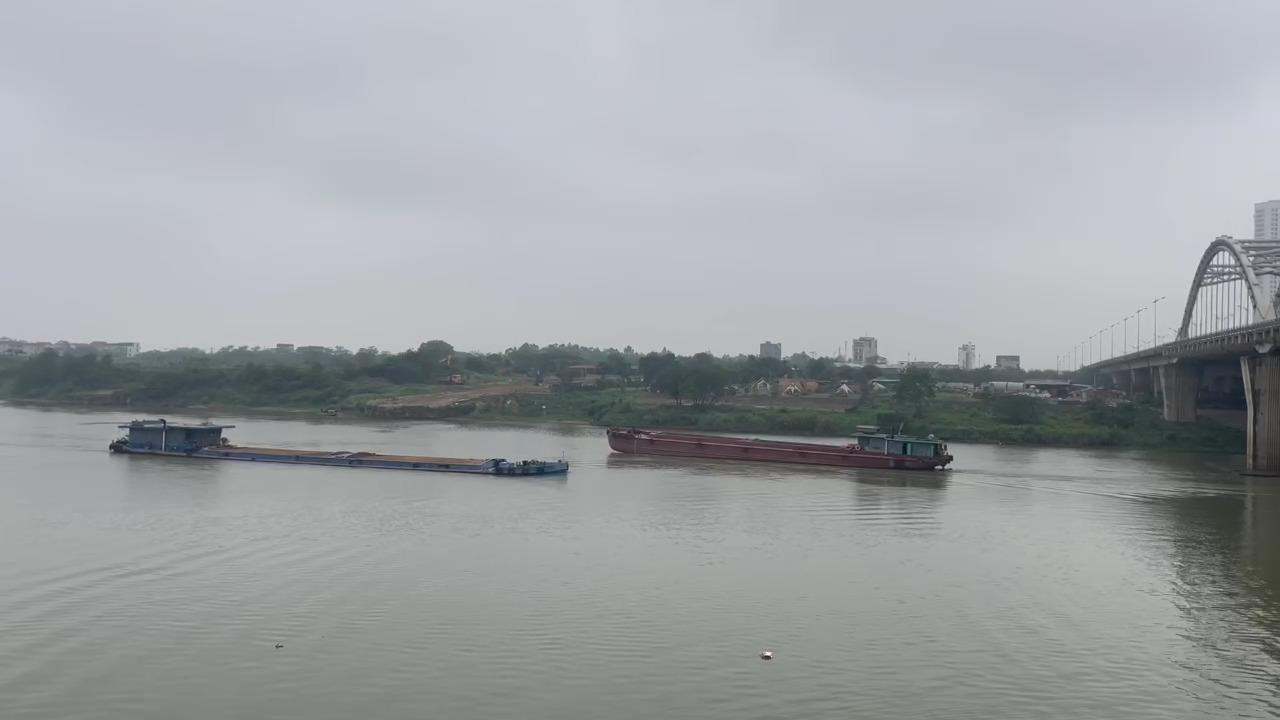Ship: (96, 417, 575, 486), (603, 416, 963, 481)
